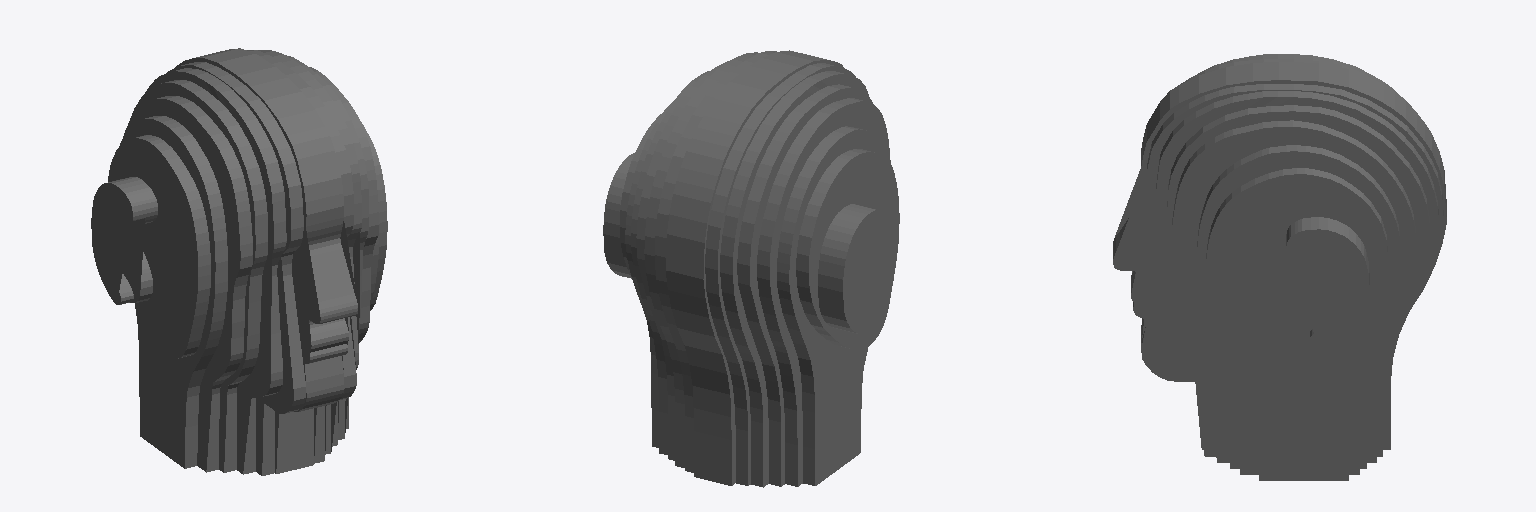
The model's file is head.obj.
3 views of the same model, side by side, from view 1: azimuth 30°, elevation 25°; view 2: azimuth 150°, elevation 25°; view 3: azimuth 270°, elevation 25° (orthographic).
Parts seen in each view (by area): view 1: Cube; view 2: Cube; view 3: Cube.
Part boxes in pixels (left/top/right/bottom): Cube: left=91, top=48, right=387, bottom=475; Cube: left=603, top=50, right=899, bottom=487; Cube: left=1113, top=54, right=1446, bottom=480.
Bounding box in the file's own units: 6.84 × 10.1 × 8.25.